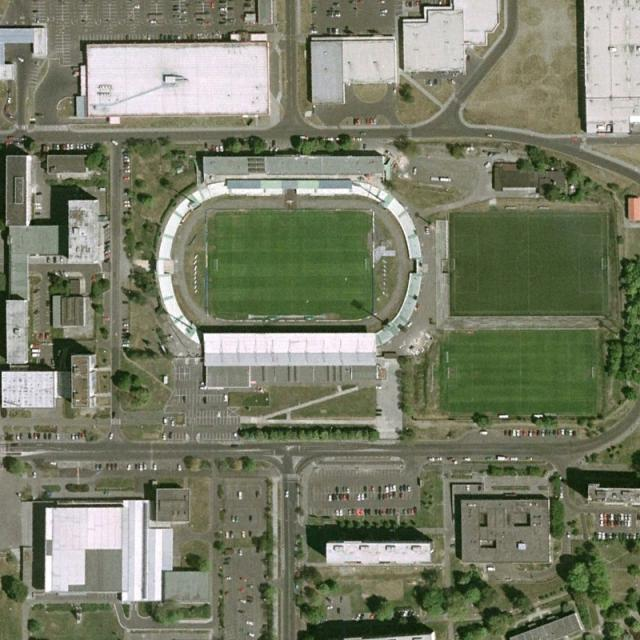vehicle: (497, 455, 510, 462)
